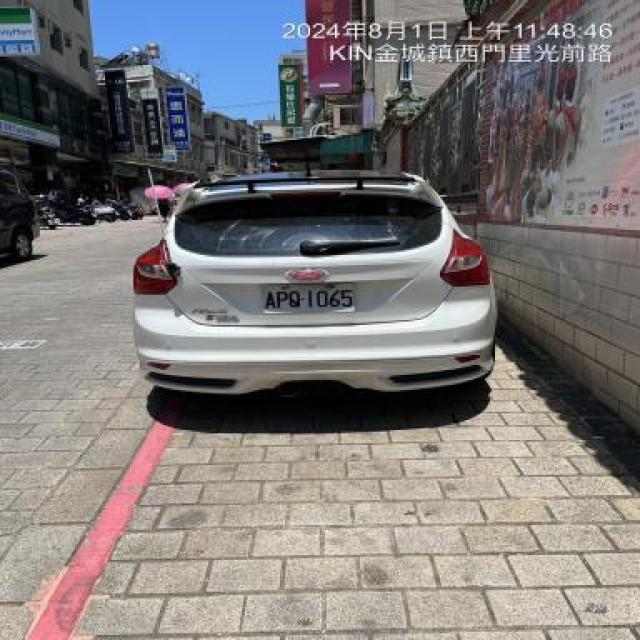Legalparking: (135, 167, 497, 393)
